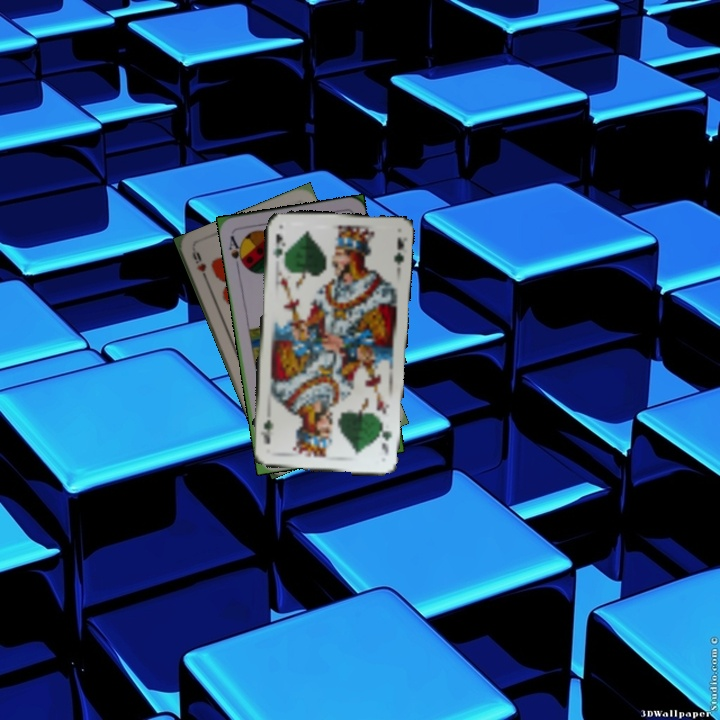GK: (376, 420, 394, 458), (268, 230, 287, 261)
H9: (188, 246, 211, 285)
SA: (225, 232, 247, 270)
